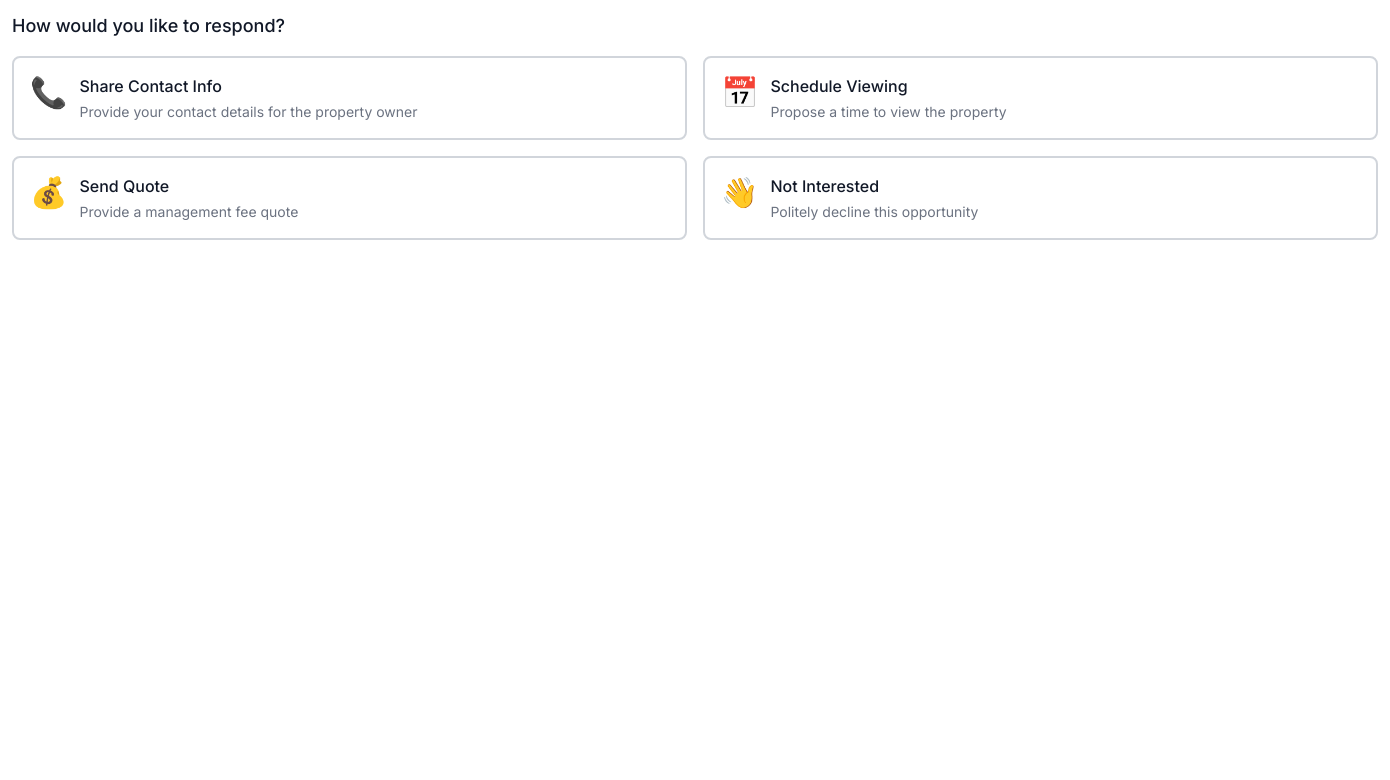
Lead Response System › ResponseForm › should validate required fields
What coordinates should you click on to do the following:
click the button "Share Contact Info"
I would click on:
 (49, 92)
Its box is [12,56,687,140].
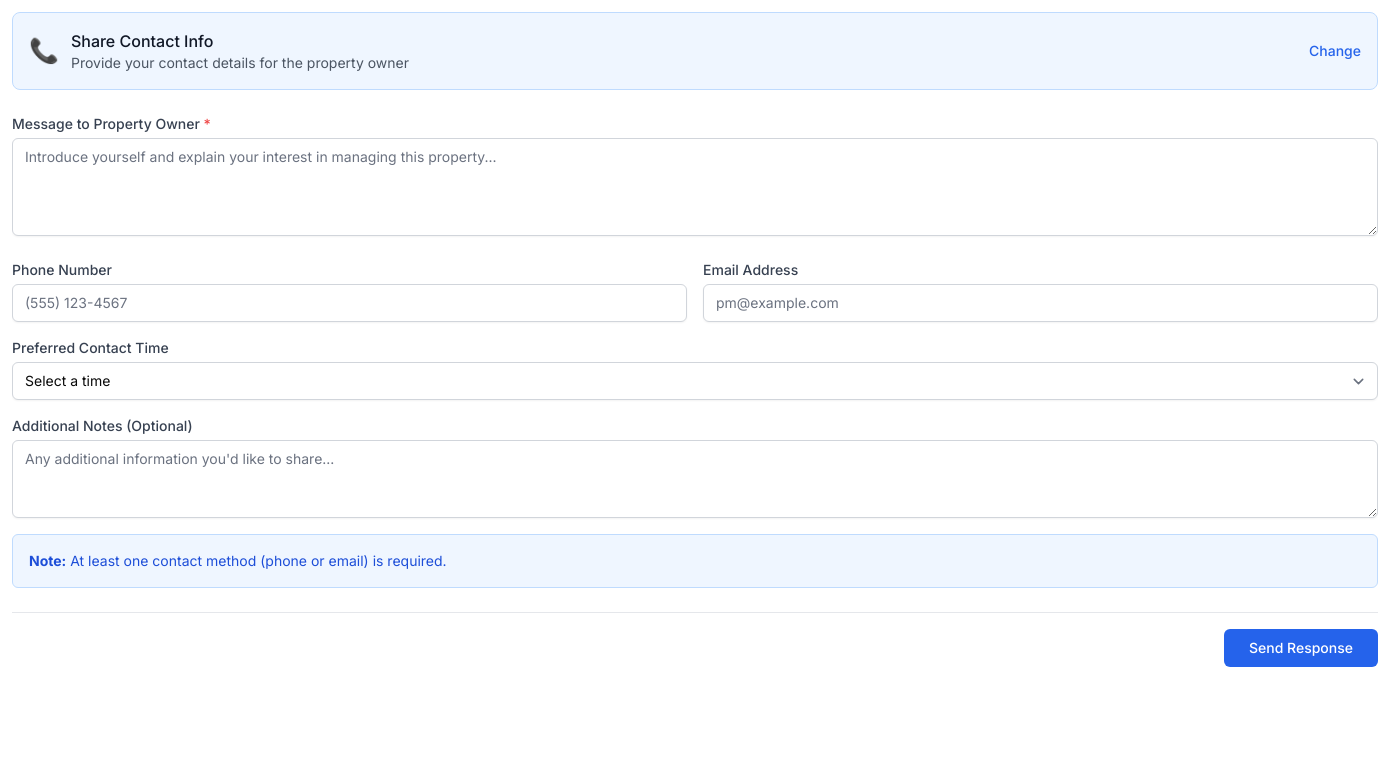
What coordinates should you click on to do the following:
click the button "Send Response"
I would click on:
 (1301, 648)
Its box is [1224,629,1378,667].
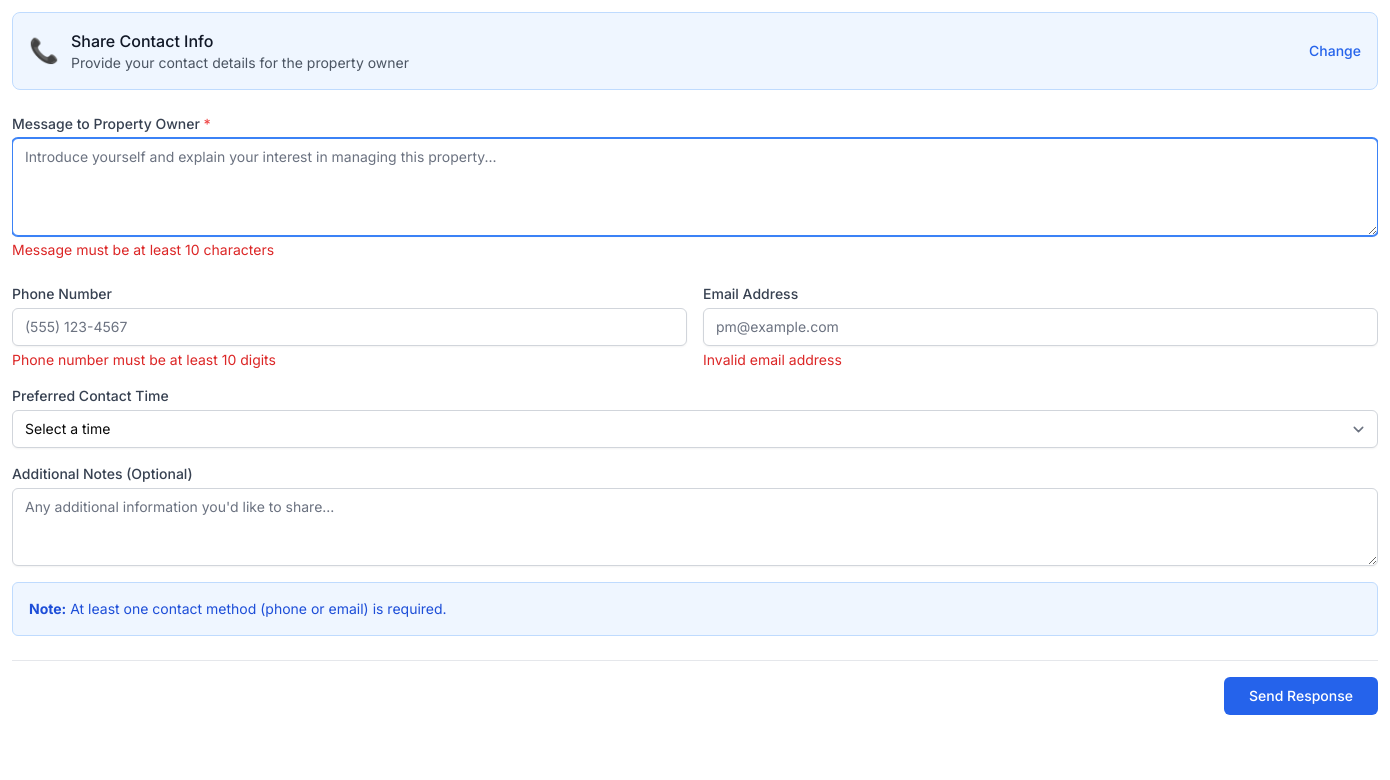
Result: the text "Message must be at least 10 characters" is shown at [12,241,274,258]
